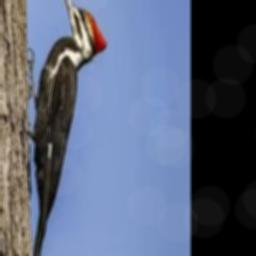Woodpecker: (26, 0, 107, 256)
